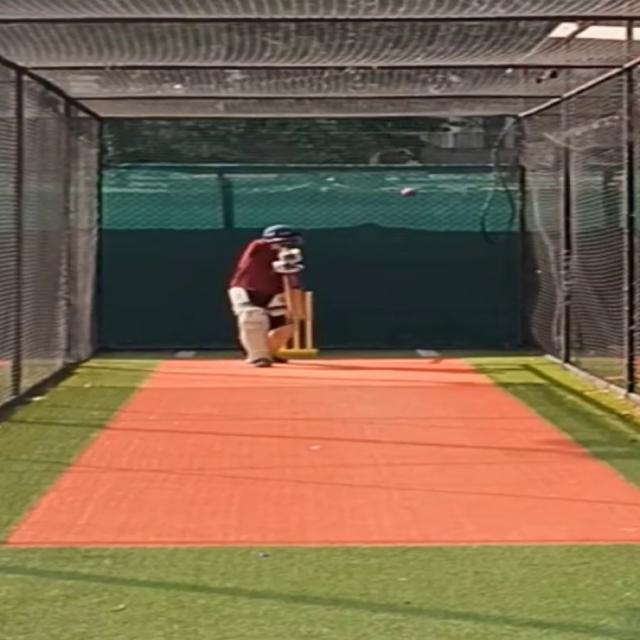ball: (400, 185, 420, 196)
stump: (289, 289, 319, 358)
